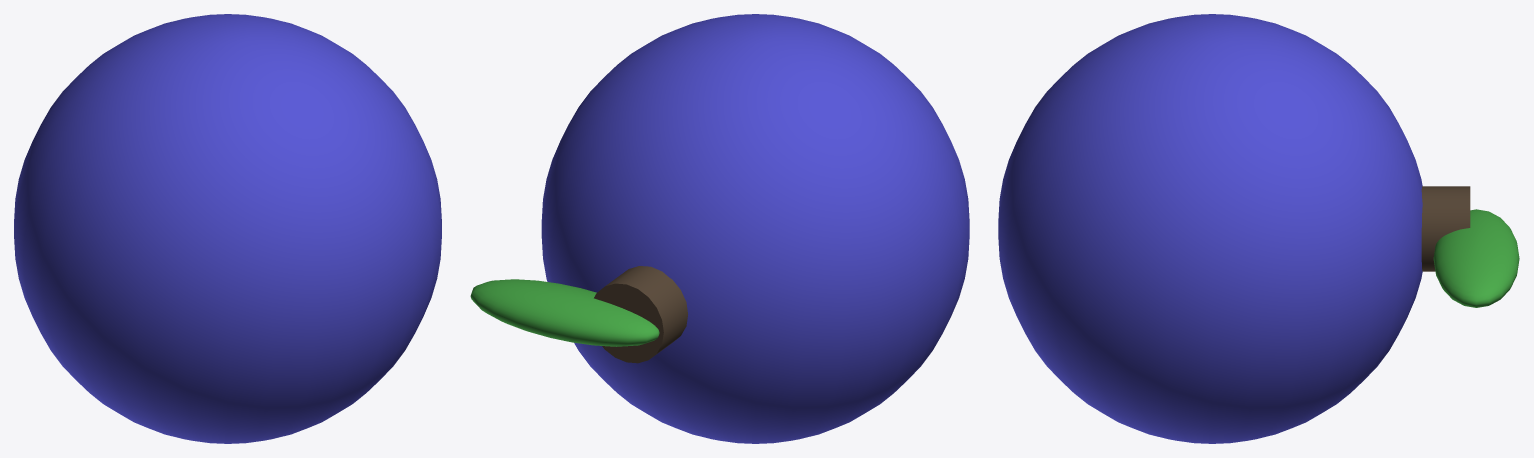
The model's file is Berry2.fbx.
3 renders of one model, left to right at view 1: azimuth 30°, elevation 25°; view 2: azimuth 150°, elevation 25°; view 3: azimuth 270°, elevation 25°, orthographic.
Visible parts, largest first — view 1: Berry; view 2: Berry; view 3: Berry.
Part boxes in pixels (x1,y1,x2,y2): Berry: (14,14,441,443); Berry: (470,14,969,443); Berry: (998,14,1519,443).
Bounding box in the file's own units: 1 × 1 × 1.21.
